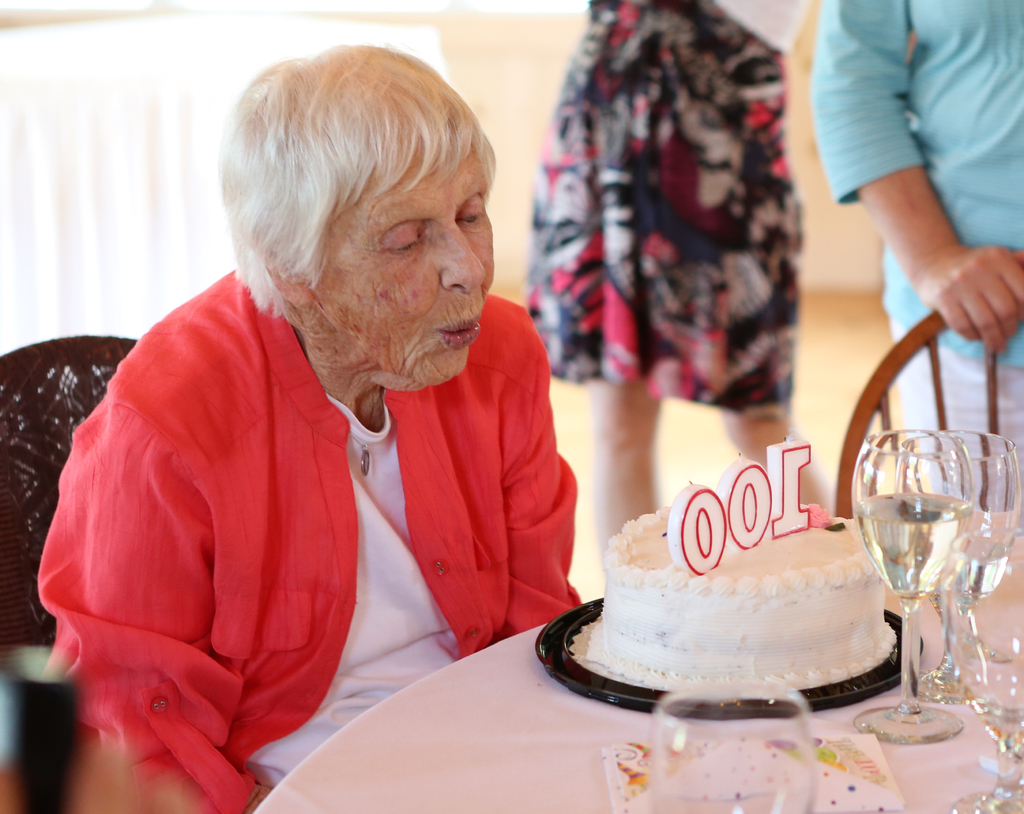cake: (580, 505, 899, 690)
